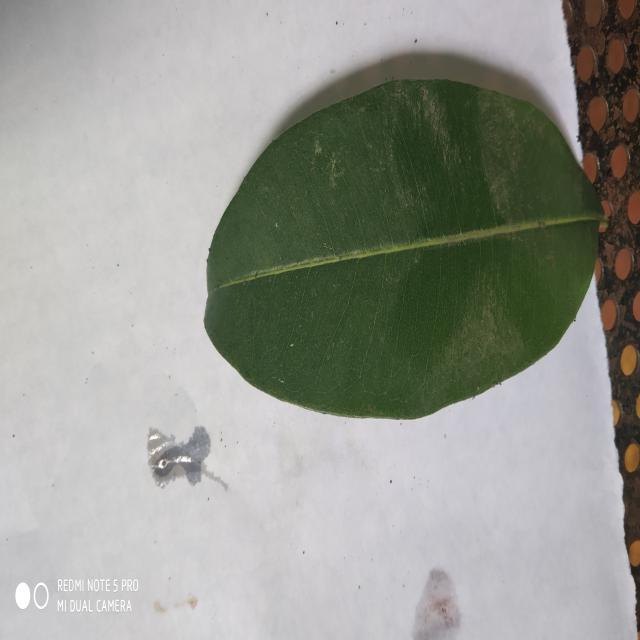sapota: (205, 80, 604, 418)
